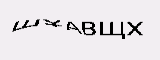А: (66, 18, 81, 35)
В: (81, 19, 97, 40)
Х: (125, 19, 144, 37)
Ш: (9, 18, 40, 32)
Щ: (98, 19, 126, 39)
Ұ: (42, 15, 62, 30)
